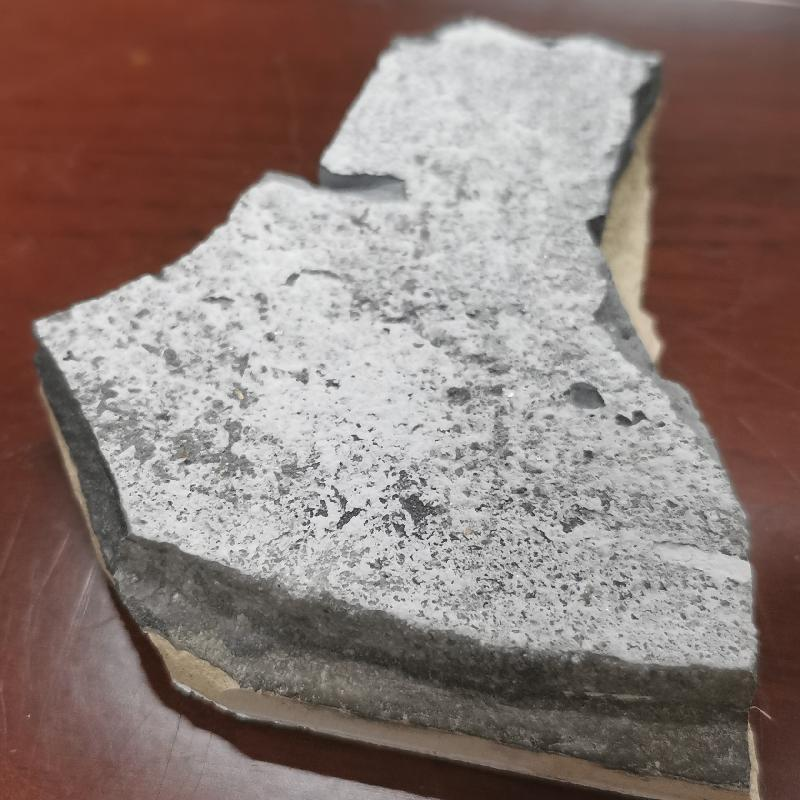tile: (26, 15, 759, 800)
